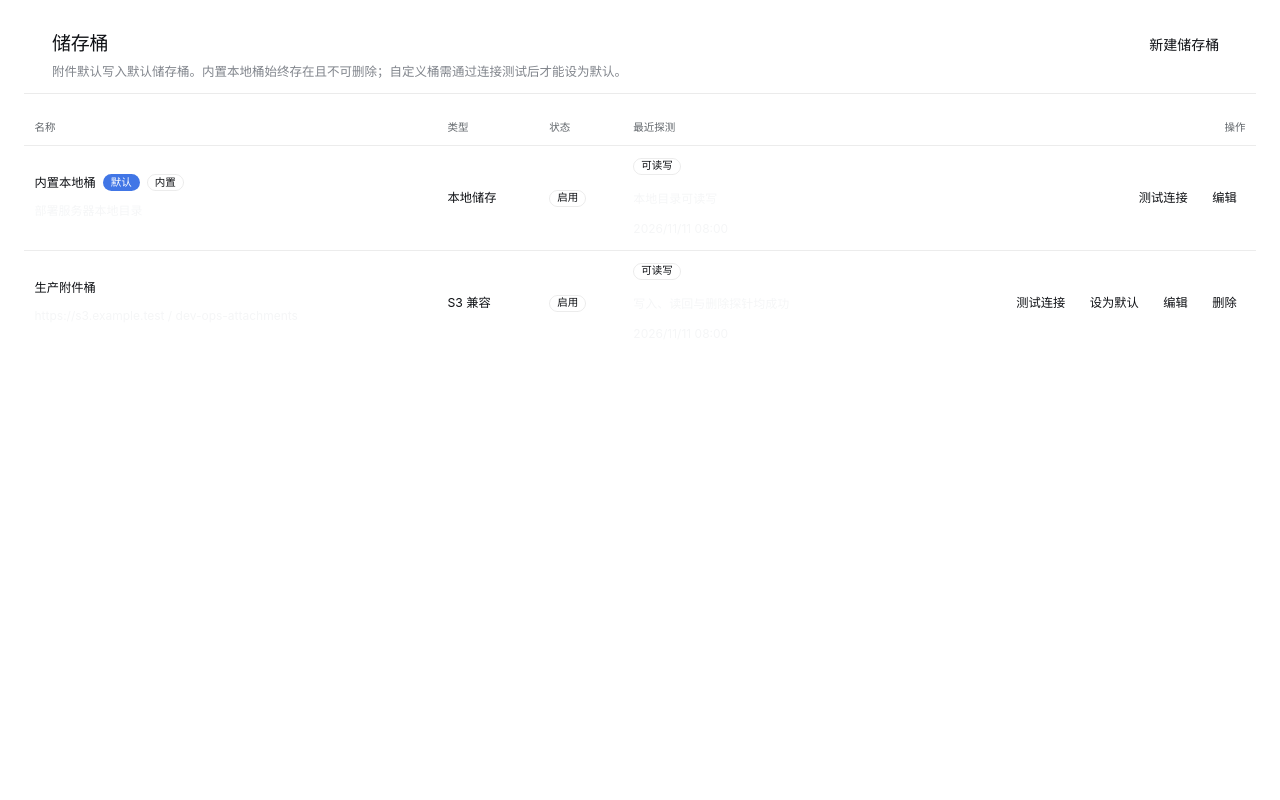
StorageBucketManagement › 编辑时密钥留空表示不修改，并展示掩码而非明文
The image size is (1280, 800).
Click the button "编辑" in the row of "生产附件桶" at (1176, 303), box [1154,290,1196,315]
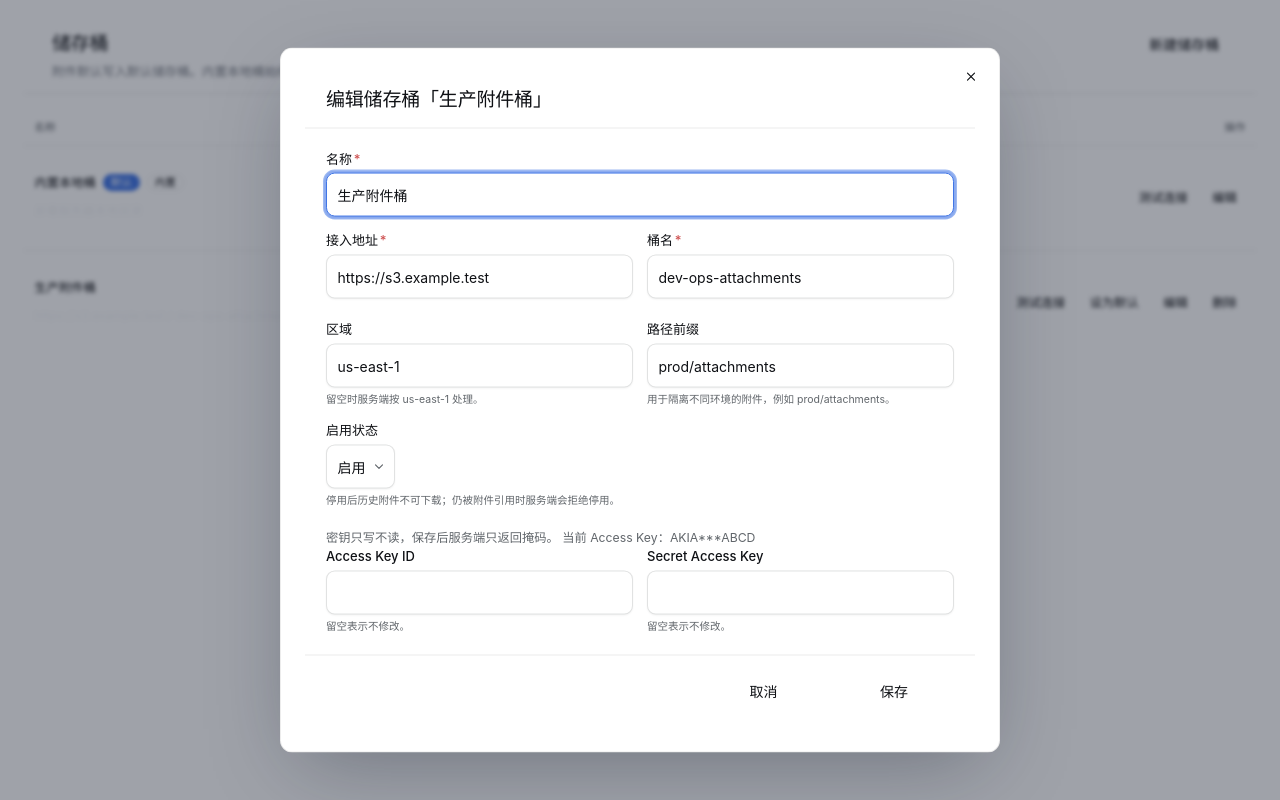
Check: the password field labelled "Secret Access Key" is empty, box [647,570,954,614]
Check: the text "密钥只写不读，保存后服务端只返回掩码。 当前 Access Key：AKIA***ABCD" is shown, box [326,530,756,545]
